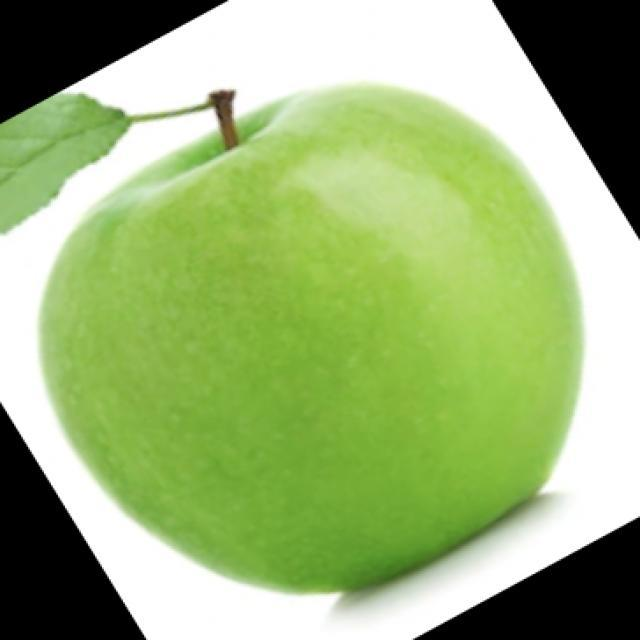Fresh Apple: (44, 86, 588, 586)
